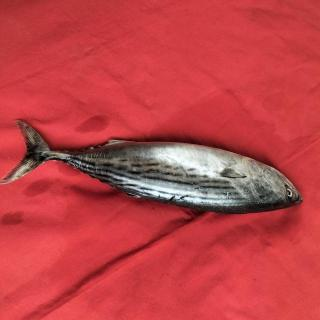Ikan: (7, 112, 312, 224)
